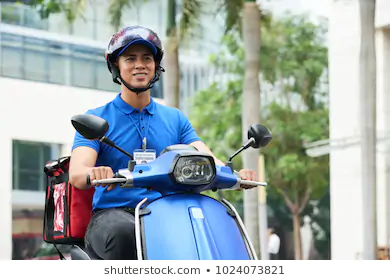helmet: (91, 14, 202, 152)
